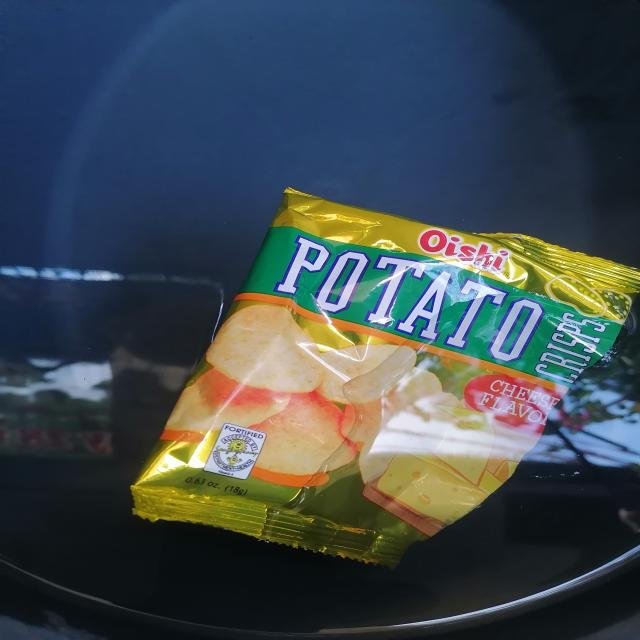Plastic Wrapper: (131, 187, 640, 568)
